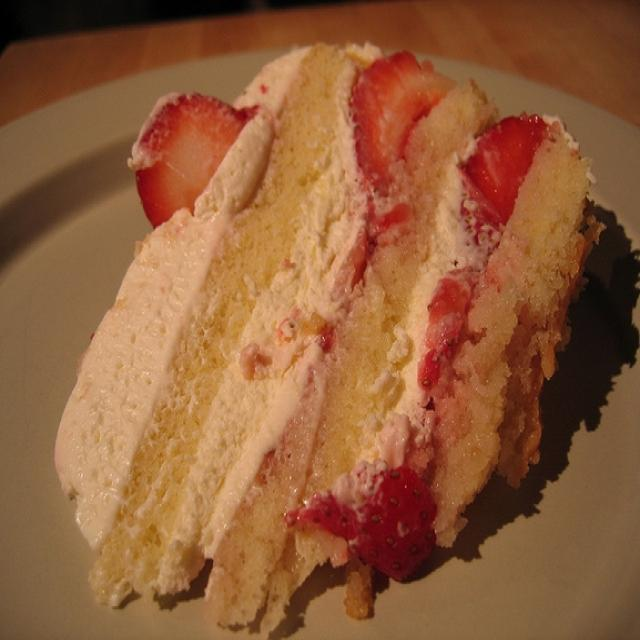蛋糕甜品: (30, 24, 633, 631)
